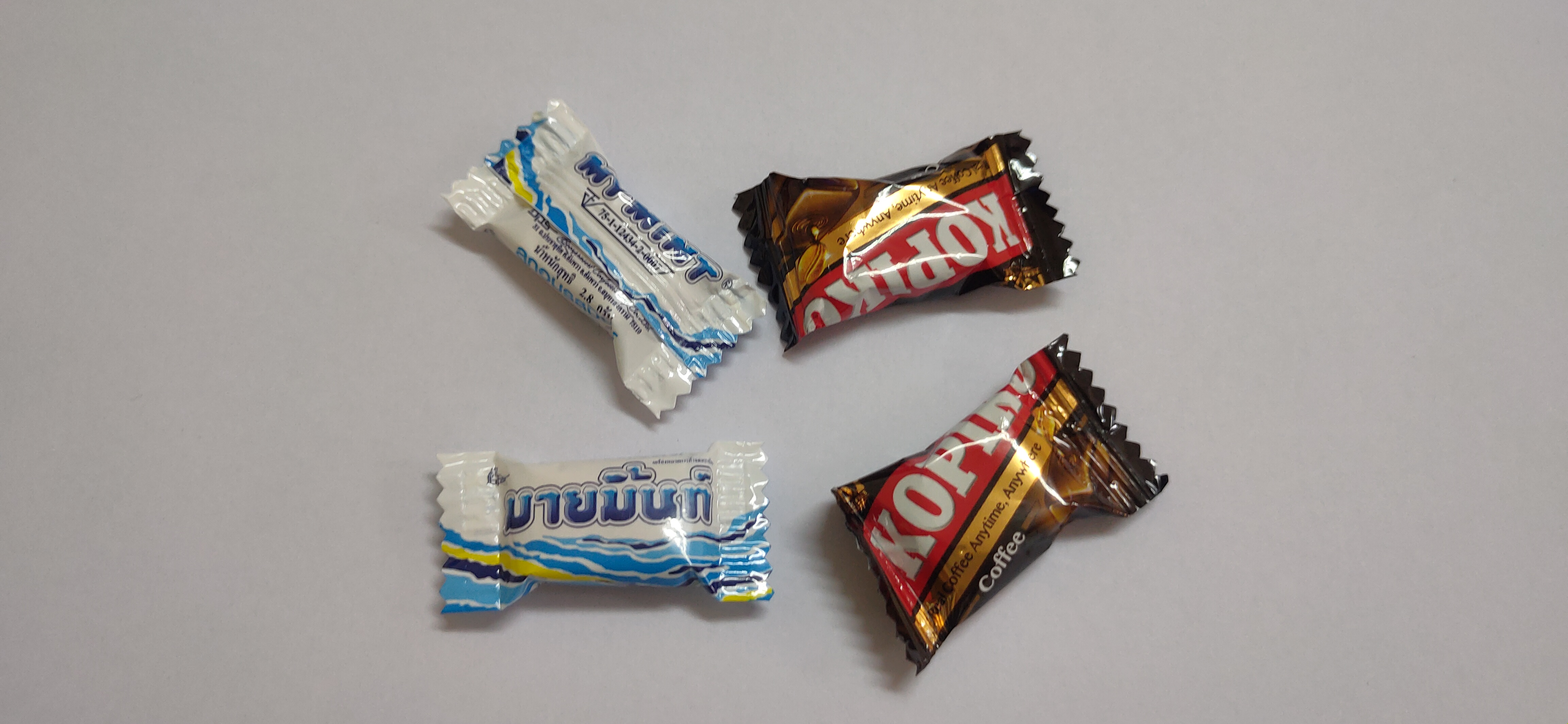plastic: (416, 56, 801, 451), (801, 326, 1193, 688), (725, 86, 1108, 383), (415, 421, 798, 647)
